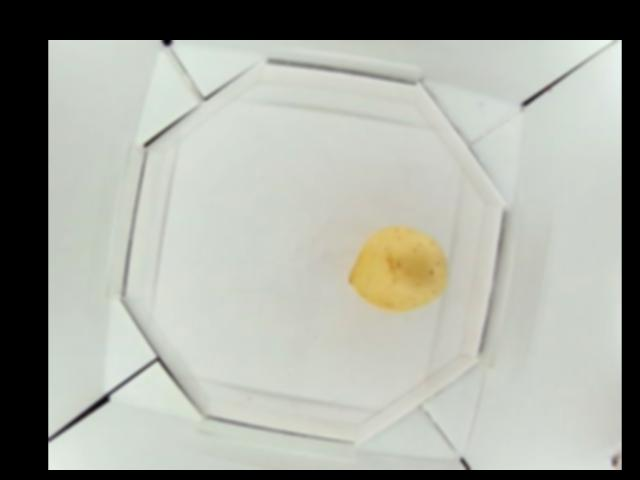Potato: (345, 223, 453, 311)
